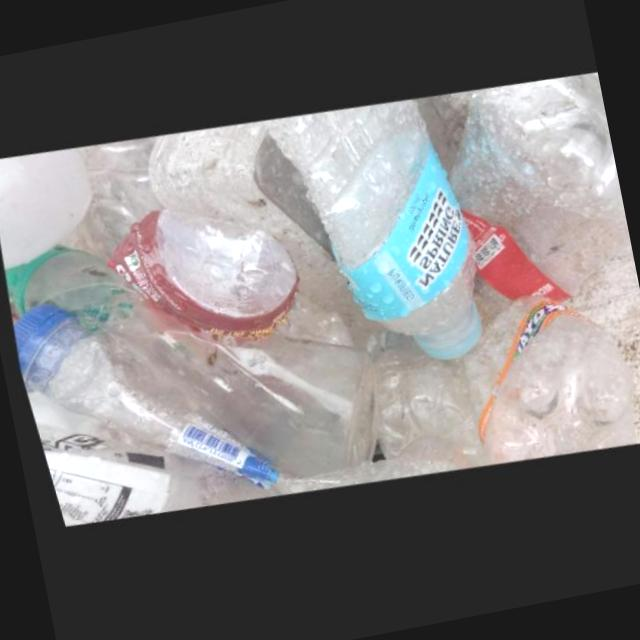chai_nhua_pet: (0, 248, 372, 490), (8, 305, 343, 501), (259, 107, 476, 368), (447, 83, 628, 327), (101, 211, 295, 349), (366, 339, 471, 468)
